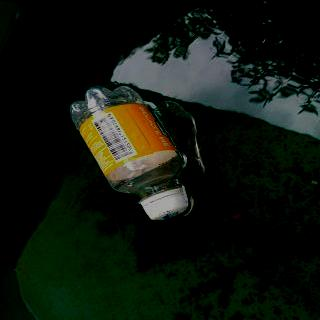bottle: (63, 82, 194, 225)
